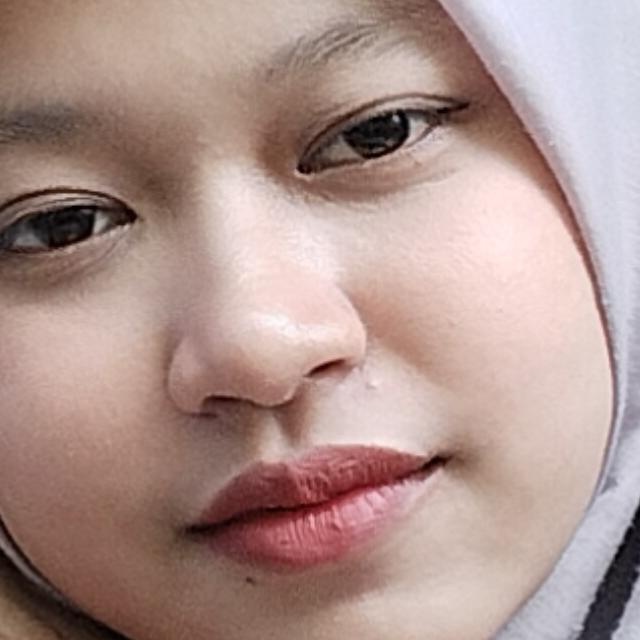tidur: (0, 228, 450, 640)
